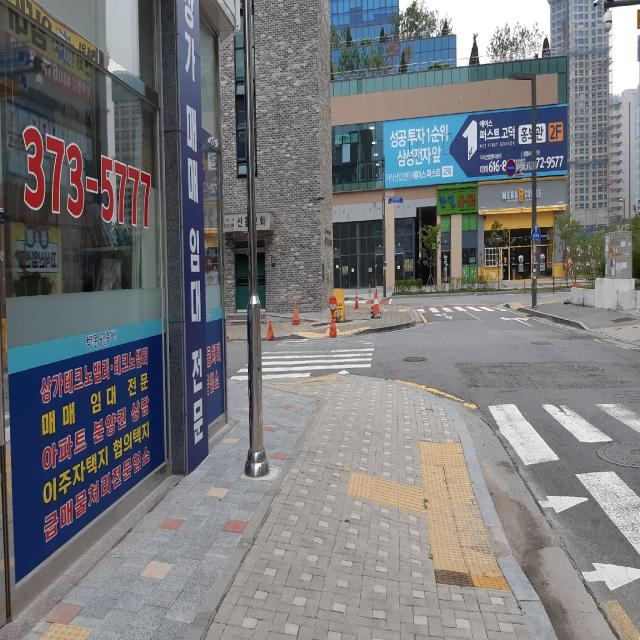횡단보도: (485, 389, 640, 595), (230, 334, 376, 381)
